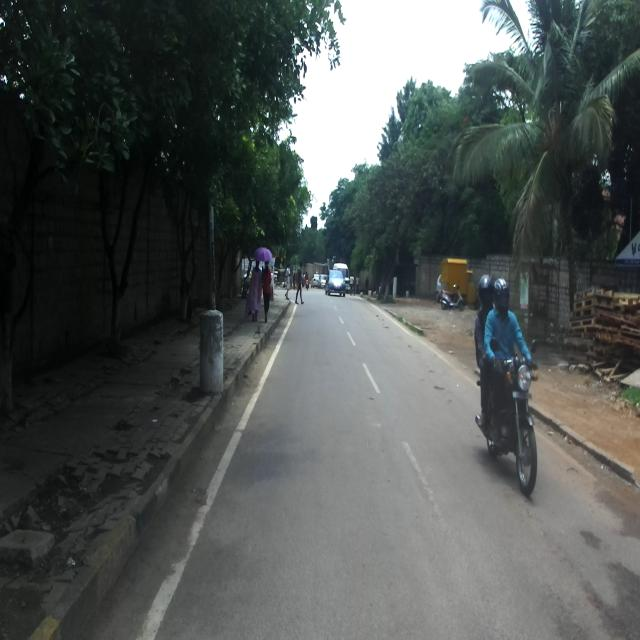motorcycle ahead at: (472, 339, 546, 498)
